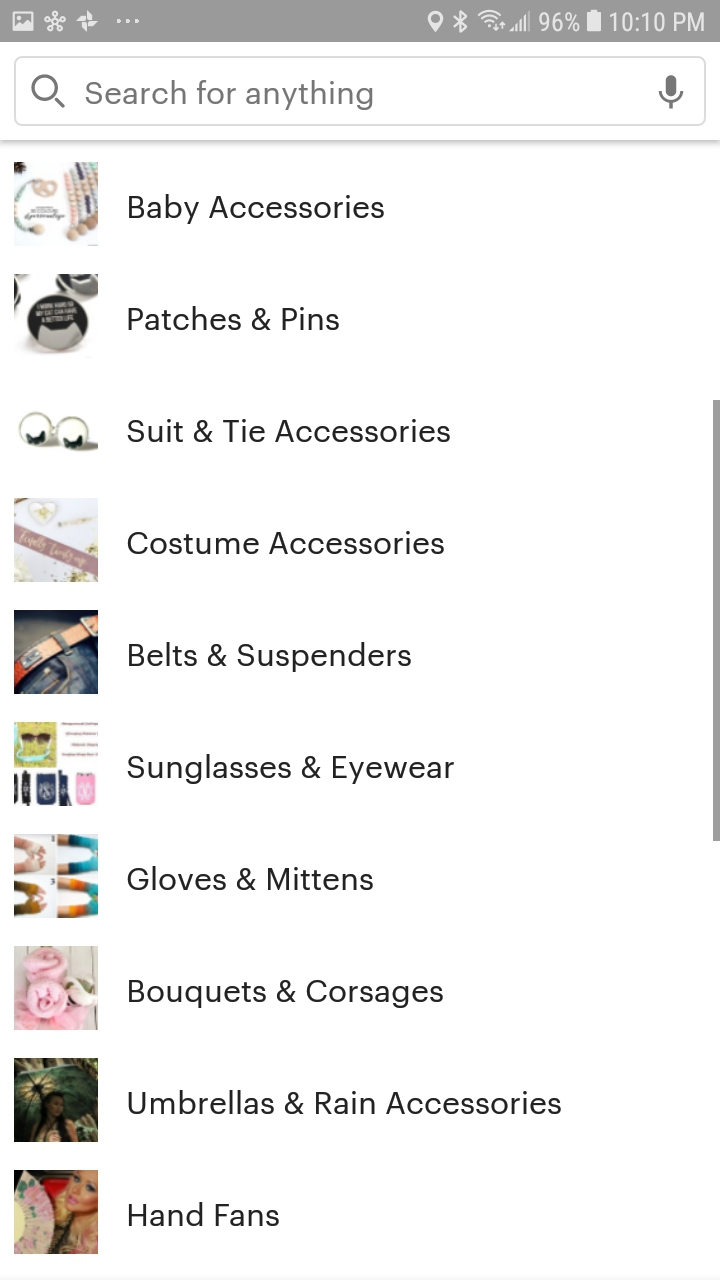EditText: (14, 57, 706, 127)
Icon: (31, 75, 66, 109), (659, 76, 684, 110)
Image: (15, 834, 99, 919), (15, 722, 99, 807), (15, 610, 99, 695), (15, 498, 99, 583), (15, 1170, 99, 1254), (15, 1058, 99, 1142), (15, 946, 99, 1030), (15, 163, 99, 247), (15, 274, 99, 354), (18, 411, 99, 452)
Text: (128, 1090, 562, 1115), (128, 754, 455, 785), (129, 979, 444, 1009), (85, 80, 374, 112), (129, 642, 412, 673), (129, 194, 385, 225), (128, 530, 445, 555), (128, 419, 451, 443), (128, 866, 374, 891), (128, 306, 340, 331), (129, 1201, 280, 1227)
UpperTaskBar: (1, 1, 720, 43)
